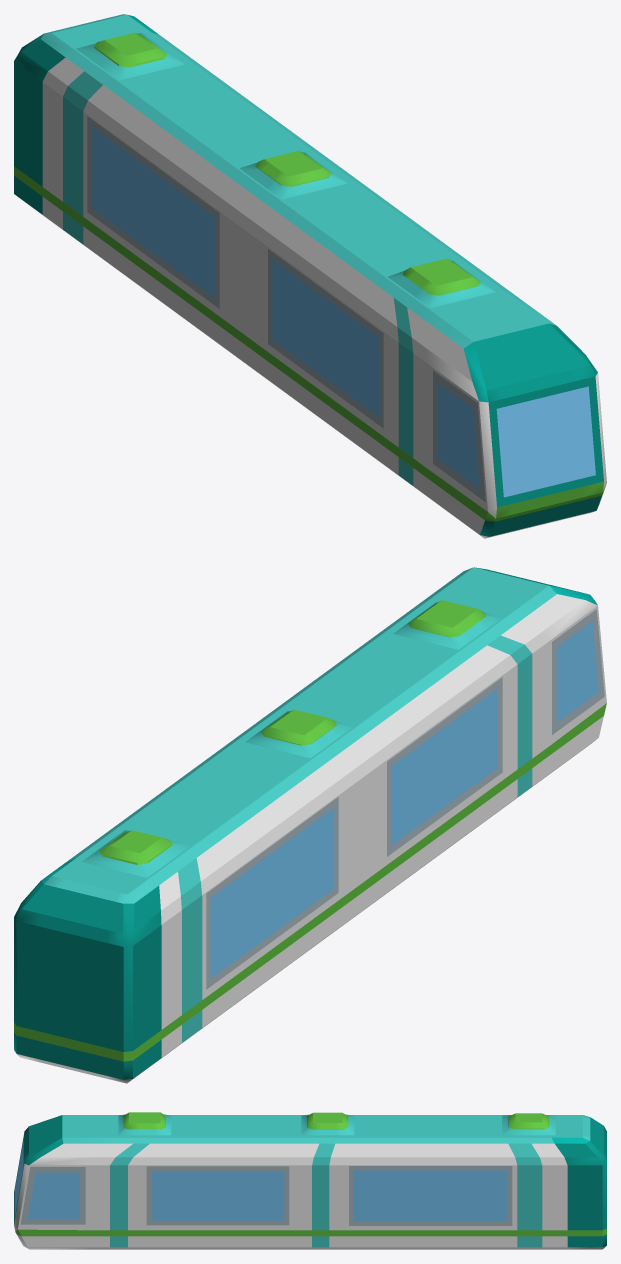
File: GreenTrain.fbx
3 views of the same model, one above another, from view 1: azimuth 30°, elevation 25°; view 2: azimuth 150°, elevation 25°; view 3: azimuth 270°, elevation 25° (orthographic). The views are drawn at different scales.
Parts seen in each view (by area): view 1: Cube; view 2: Cube; view 3: Cube.
Boxes of the visible parts, bbox=[...] form: Cube: bbox=[14, 14, 606, 538]; Cube: bbox=[14, 567, 606, 1083]; Cube: bbox=[14, 1112, 606, 1249].
Bounding box in the file's own units: 1.09 × 1.63 × 7.64.
1 material, 1 textured.
